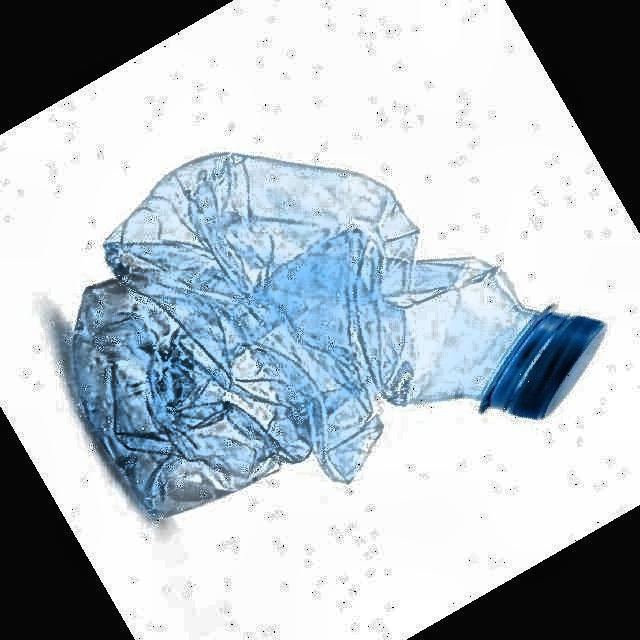plastic: (71, 153, 603, 518)
